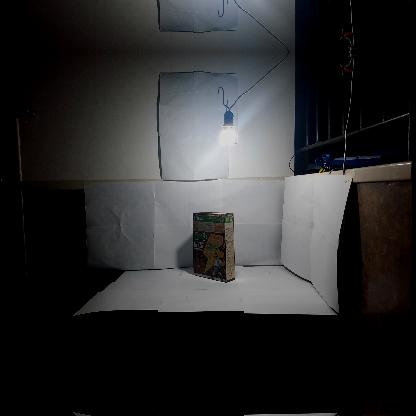Koko-Krunch: (192, 212, 234, 282)
